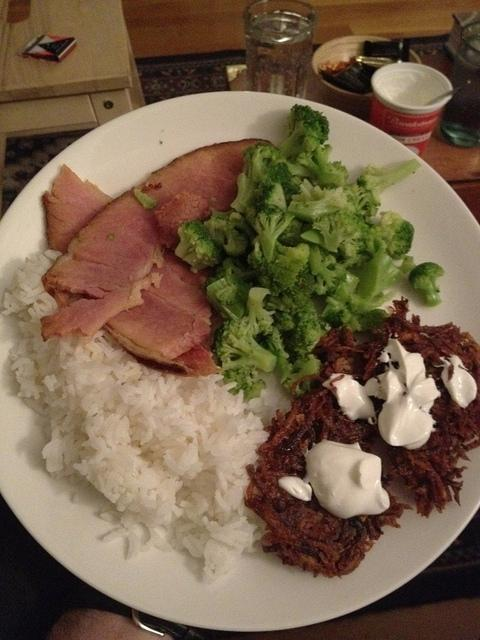broccoli: (230, 142, 285, 214), (210, 316, 278, 373), (286, 182, 380, 222), (280, 286, 322, 364), (258, 240, 310, 296), (277, 104, 330, 158), (204, 207, 259, 257), (290, 144, 348, 190), (250, 205, 296, 262), (358, 244, 404, 300), (253, 326, 297, 384), (364, 209, 414, 260), (206, 257, 256, 305), (312, 210, 364, 252), (176, 221, 220, 268), (218, 365, 267, 403), (282, 354, 322, 396), (407, 262, 444, 307), (206, 278, 244, 320), (315, 254, 347, 296), (318, 304, 363, 332), (348, 290, 398, 314), (277, 218, 316, 248), (333, 271, 360, 303), (130, 185, 158, 210)
